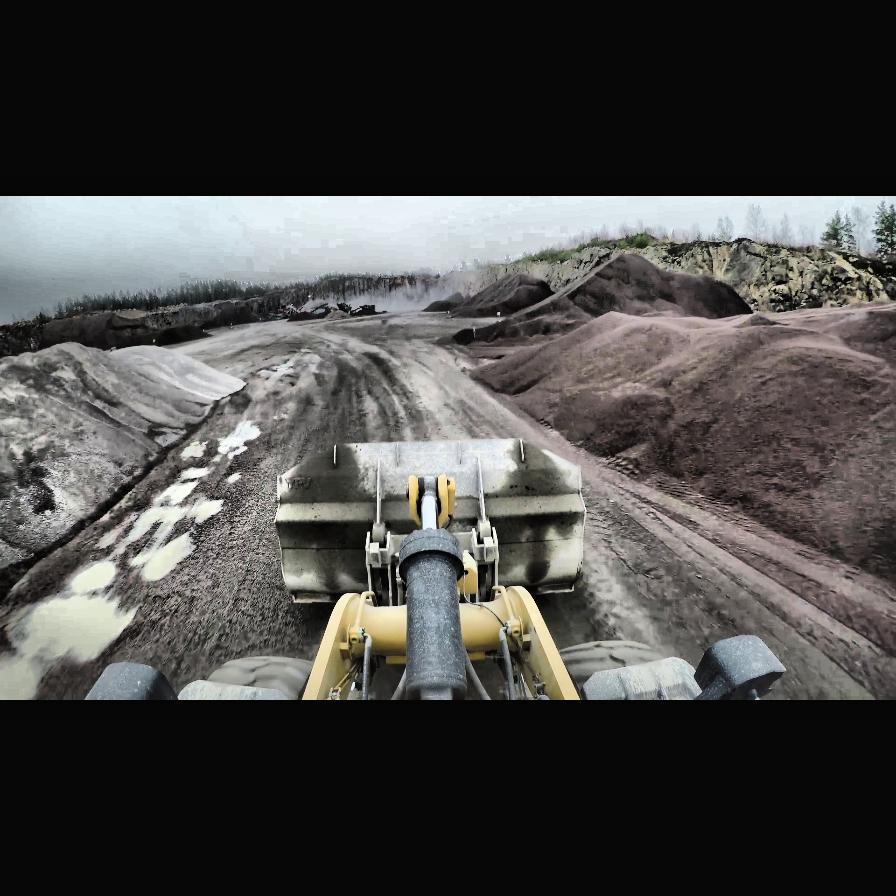anchor: (408, 476, 454, 532)
pile of gravel: (496, 296, 894, 552), (0, 340, 244, 584), (473, 254, 731, 340), (542, 312, 738, 388), (112, 344, 242, 404), (35, 310, 213, 352), (445, 270, 555, 320), (458, 310, 580, 344), (196, 299, 262, 331)
